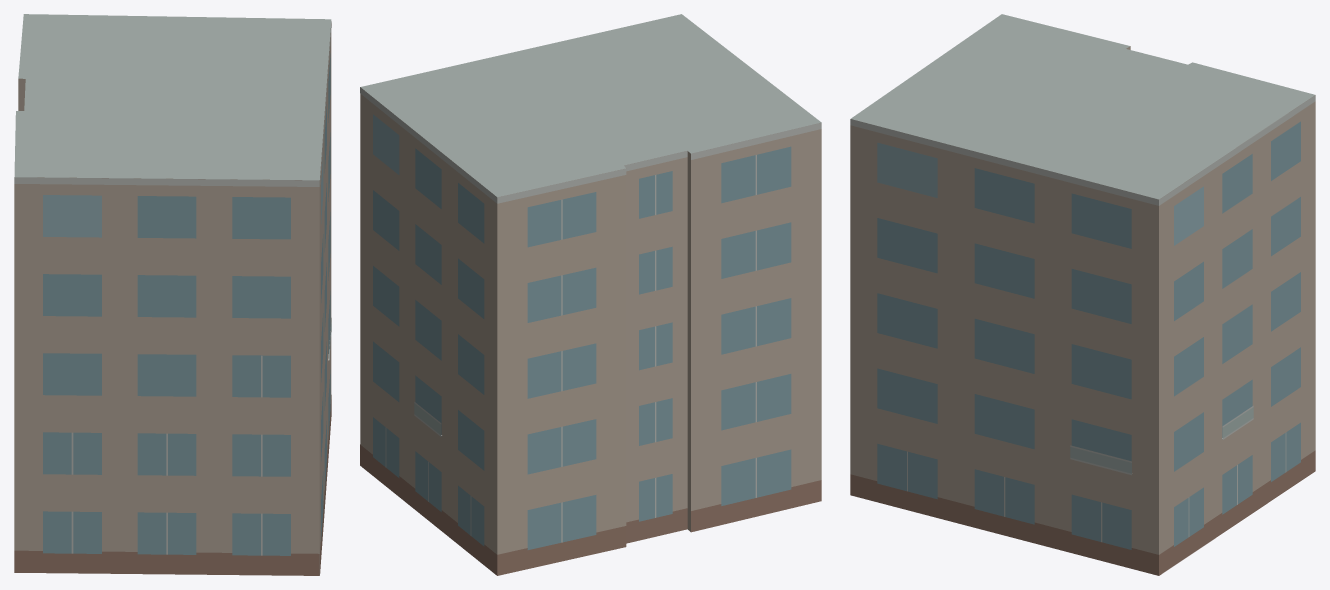
File: survey-upis-33003867.glb
The picture shows the model from 3 angles, left to right: view 1: azimuth 30°, elevation 25°; view 2: azimuth 150°, elevation 25°; view 3: azimuth 270°, elevation 25°; orthographic projection. The views are drawn at different scales.
Visible parts, largest first — view 1: survey-upis-33003867.tmp; view 2: survey-upis-33003867.tmp; view 3: survey-upis-33003867.tmp.
Boxes of the visible parts, x1=… form: survey-upis-33003867.tmp: x1=14, y1=14, x2=331, y2=575; survey-upis-33003867.tmp: x1=360, y1=14, x2=821, y2=575; survey-upis-33003867.tmp: x1=850, y1=14, x2=1315, y2=575.
Bounding box in the file's own units: 15.12 × 14.3 × 16.02.
